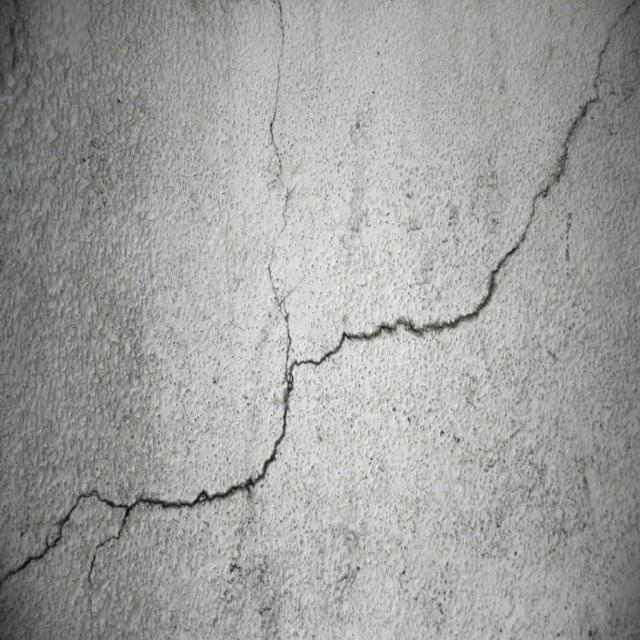Crack: (0, 0, 639, 578), (264, 0, 295, 381)
